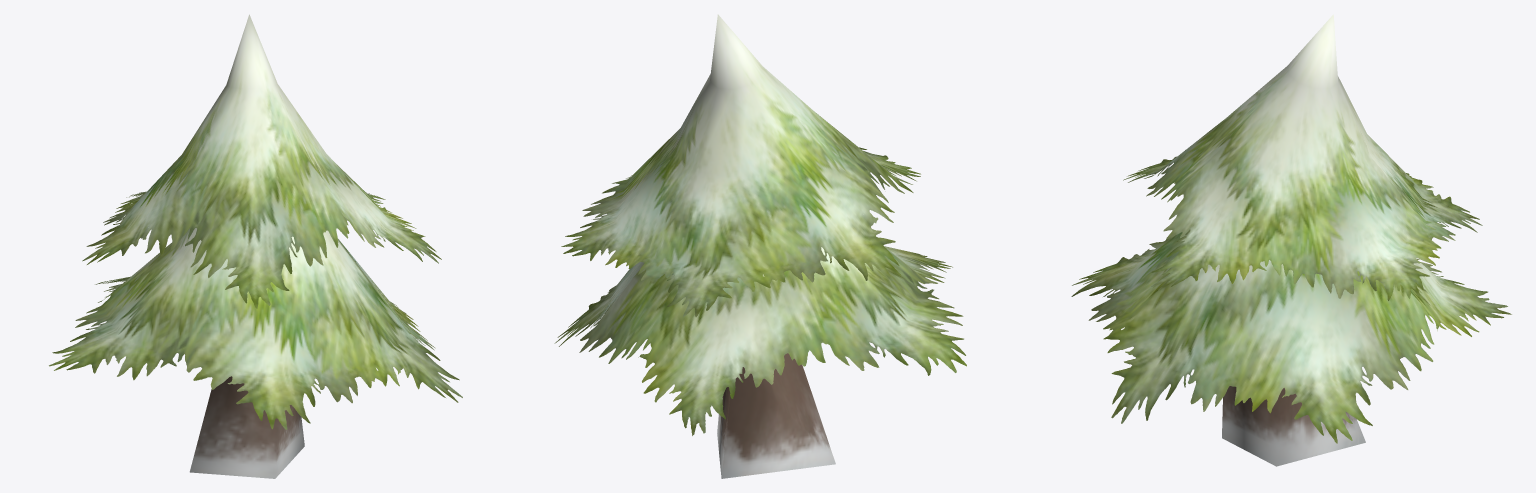
File: SnowTree_001.FBX
3 views of the same model, side by side, from view 1: azimuth 30°, elevation 25°; view 2: azimuth 150°, elevation 25°; view 3: azimuth 270°, elevation 25° (orthographic). The views are drawn at different scales.
Parts seen in each view (by area): view 1: SnowTree_001; view 2: SnowTree_001; view 3: SnowTree_001.
Boxes of the visible parts, x1,y1,x2,y2 form: SnowTree_001: (49,14,462,478); SnowTree_001: (554,14,966,478); SnowTree_001: (1071,14,1511,466).
Bounding box in the file's own units: 10.2 × 9.98 × 9.8.
